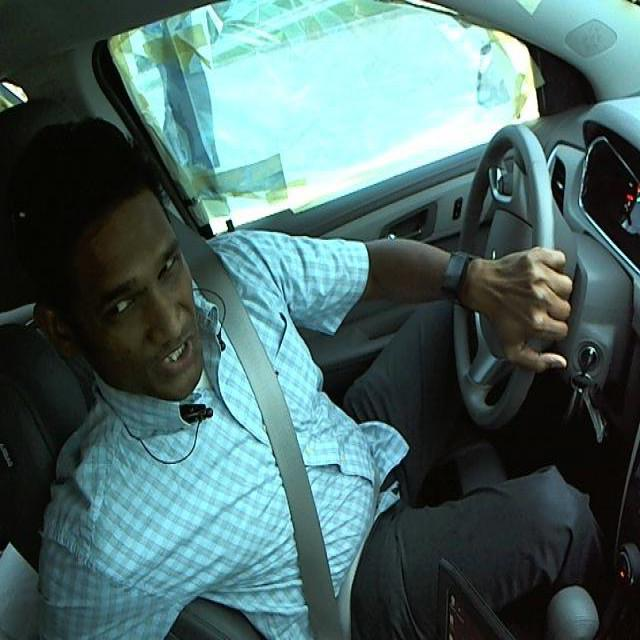seatbelt: (211, 320, 392, 639)
